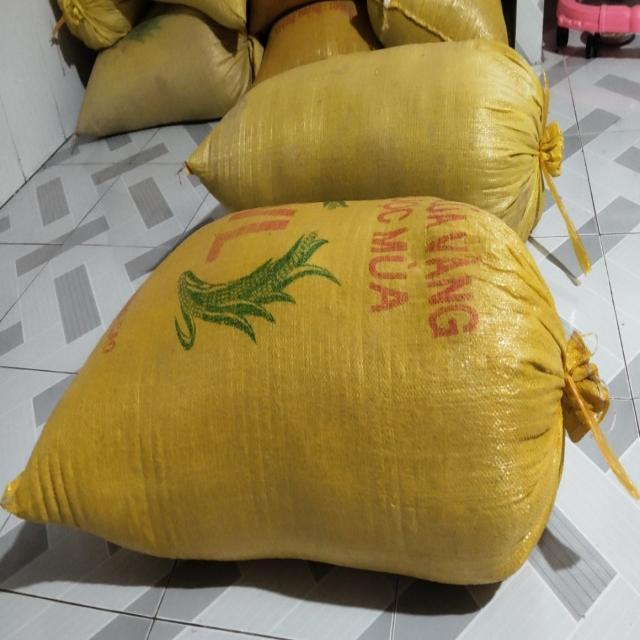gunny_bag: (2, 196, 607, 584), (186, 38, 591, 271)
